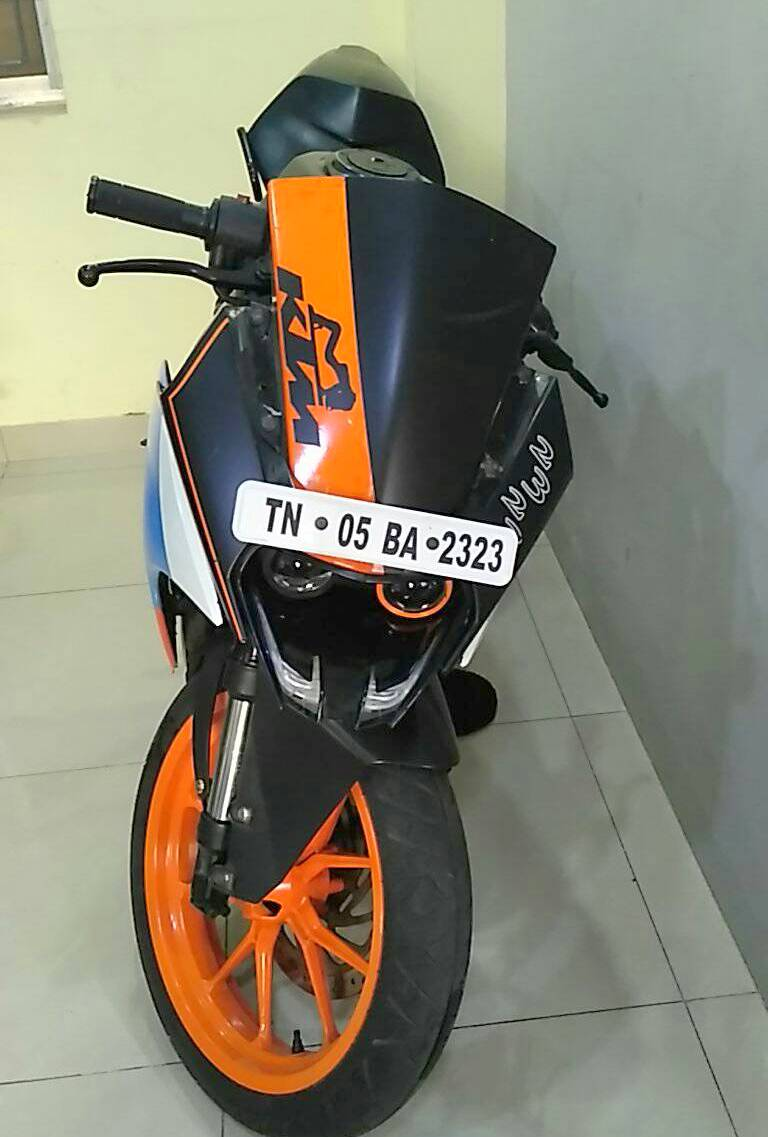numberplate: (228, 476, 516, 595)
